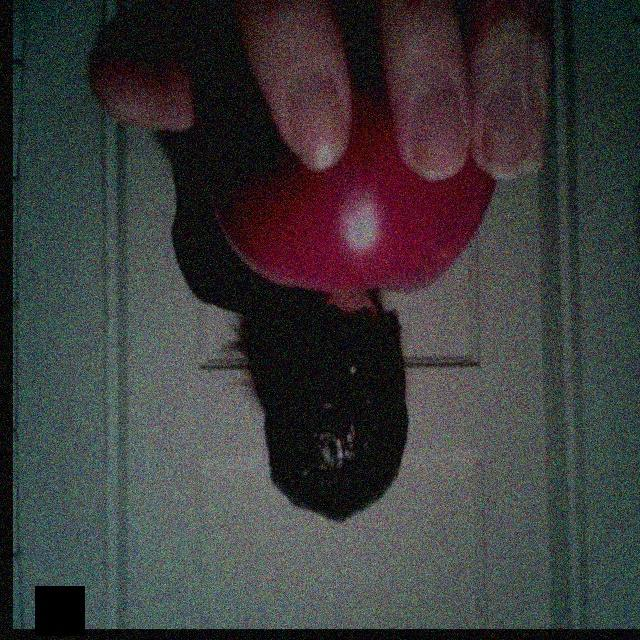red apple: (208, 82, 518, 295)
